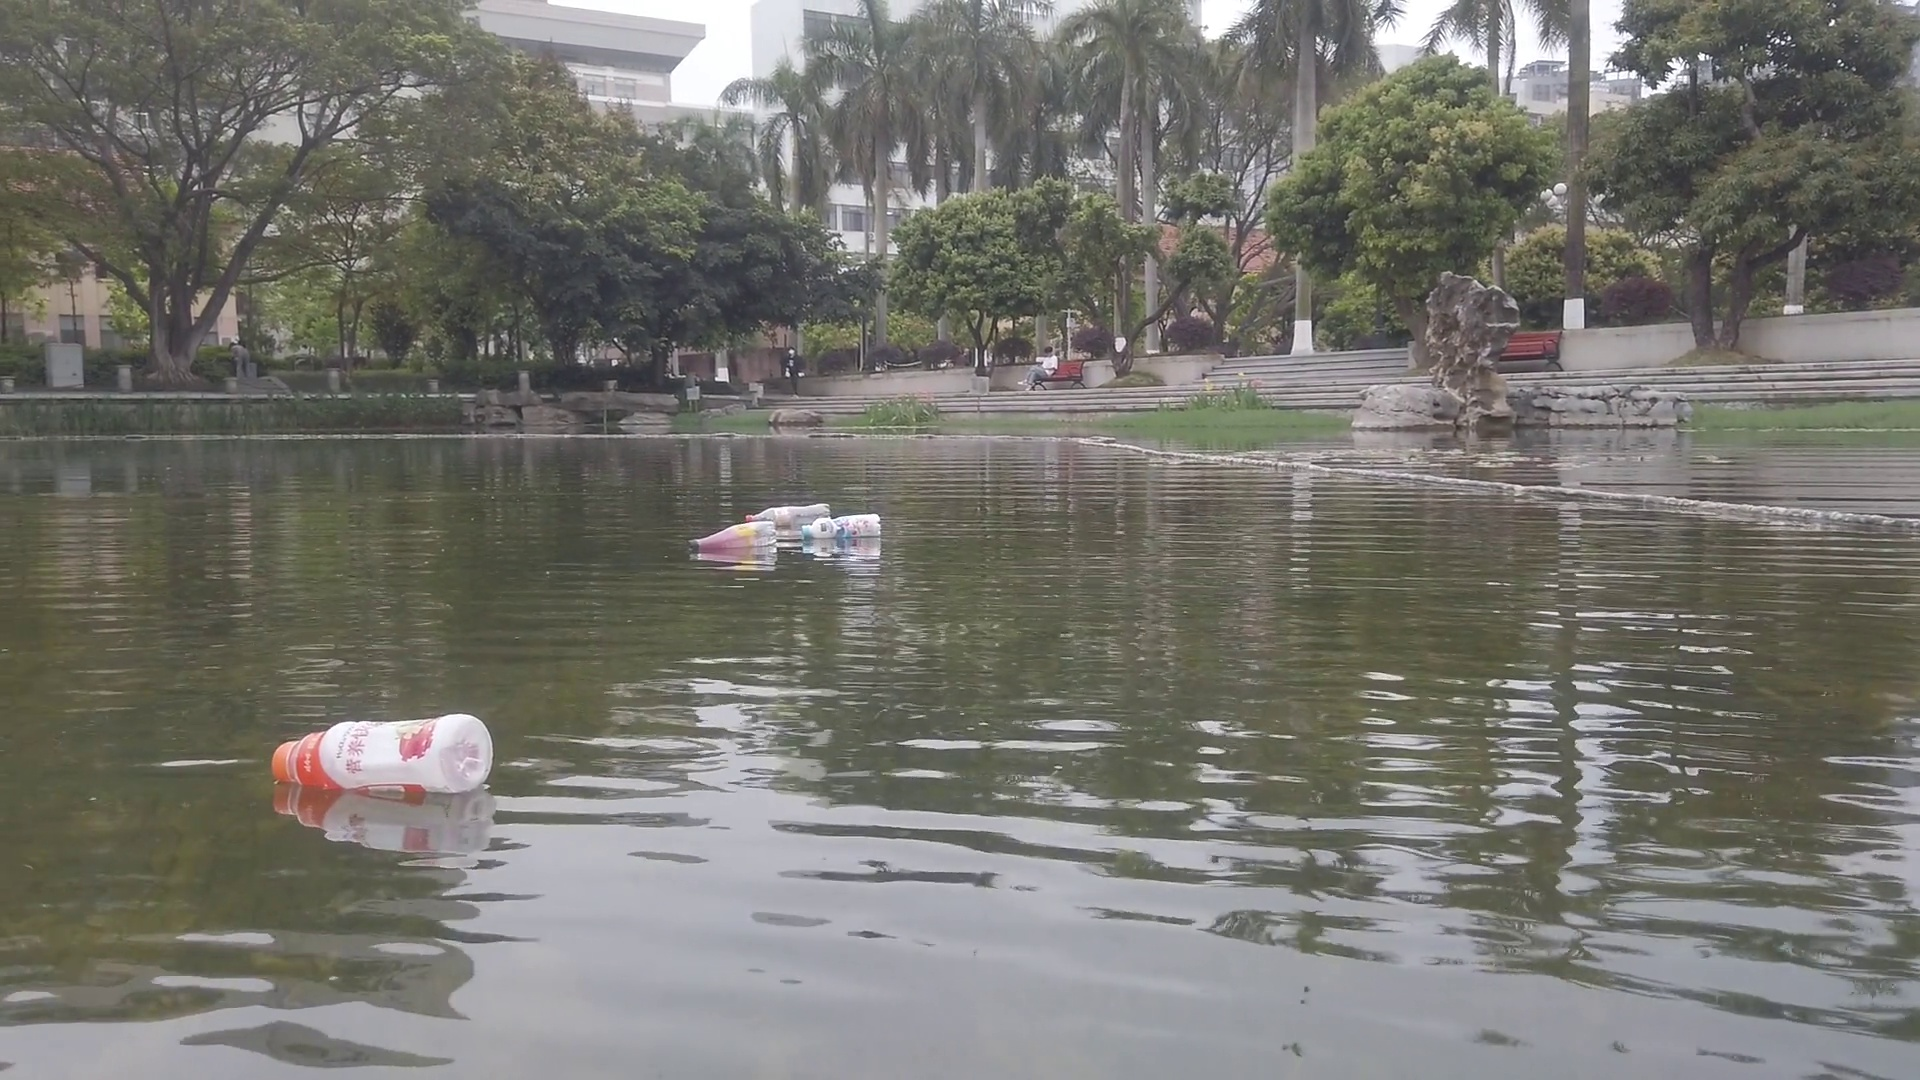bottle: (272, 713, 495, 793), (744, 502, 832, 537), (687, 524, 779, 555), (802, 513, 882, 542)
